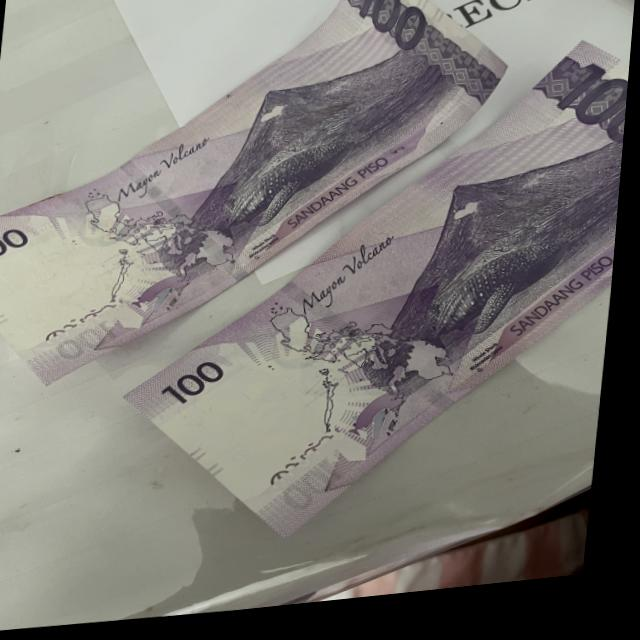100_whale: (416, 244, 589, 372), (198, 140, 361, 268)
100_whale_watermark: (347, 395, 421, 456), (126, 268, 211, 316)
